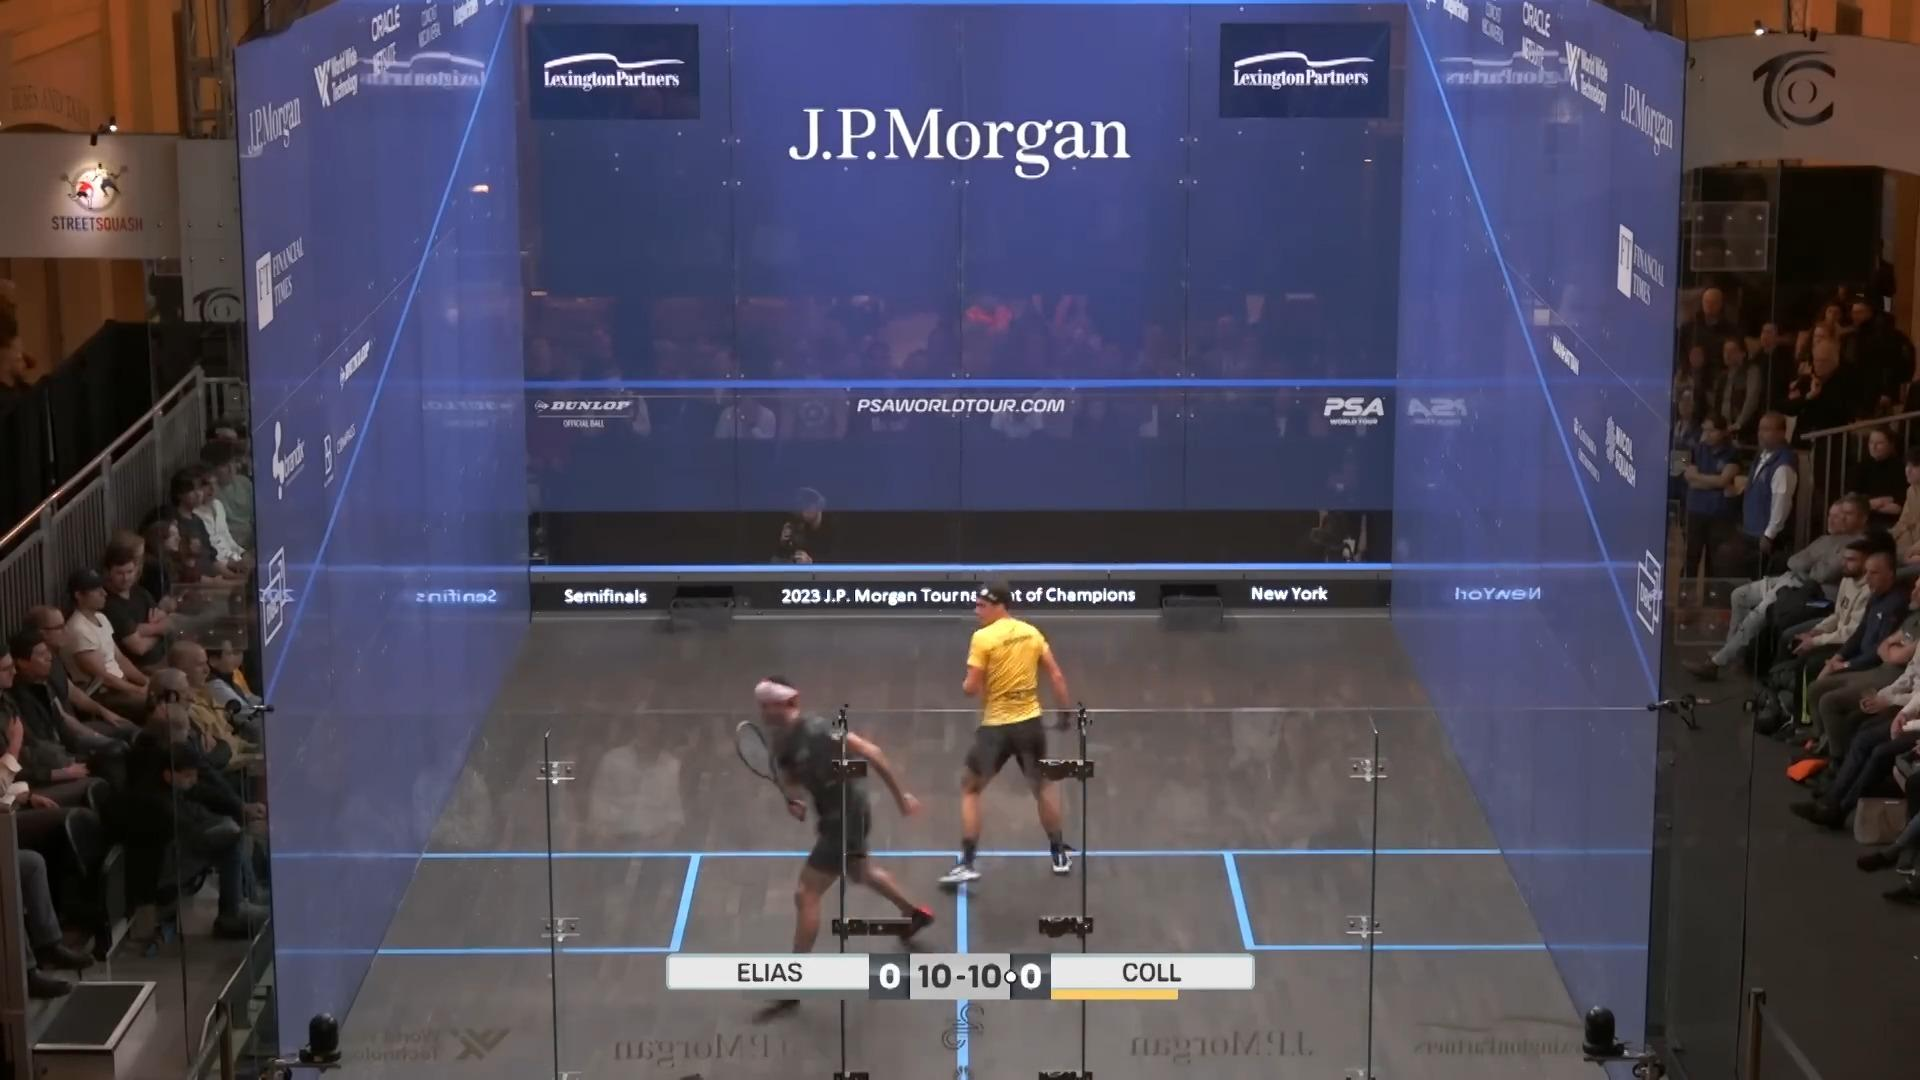Racket: (724, 719, 803, 816)
